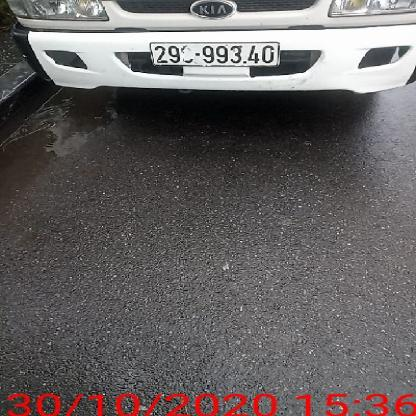biensoxe: (148, 37, 284, 70)
